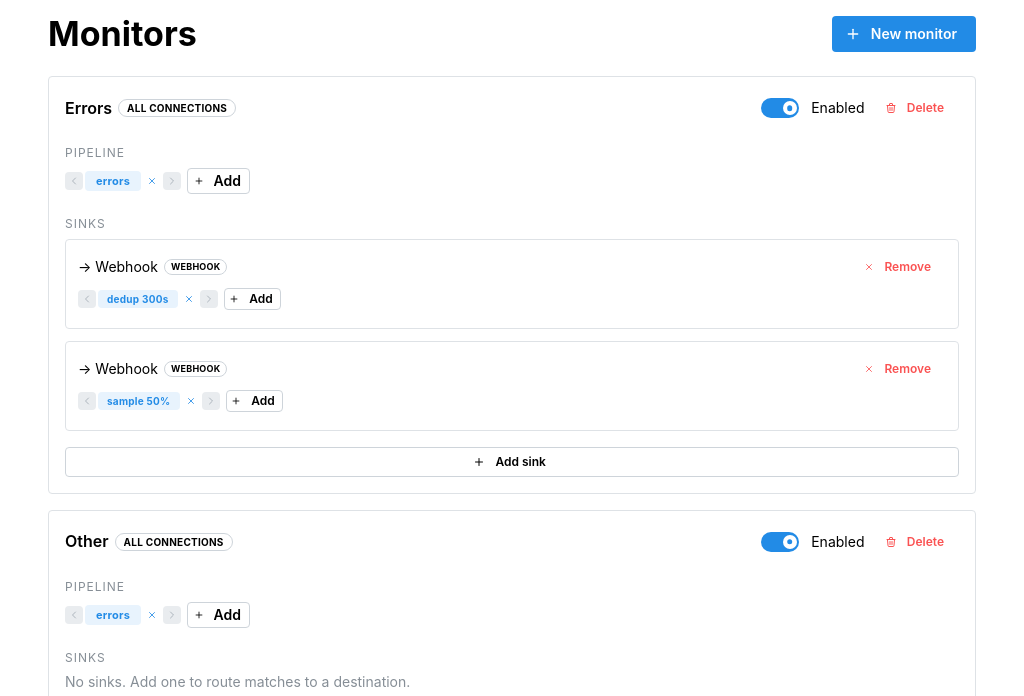
Test: saves monitor and per-sink pipelines independently without altering other monitors or sinks
What coordinates should you click on to do the following:
click the 1st button named "Remove errors"
I would click on:
 (152, 181)
Its box is [143,172,161,190].
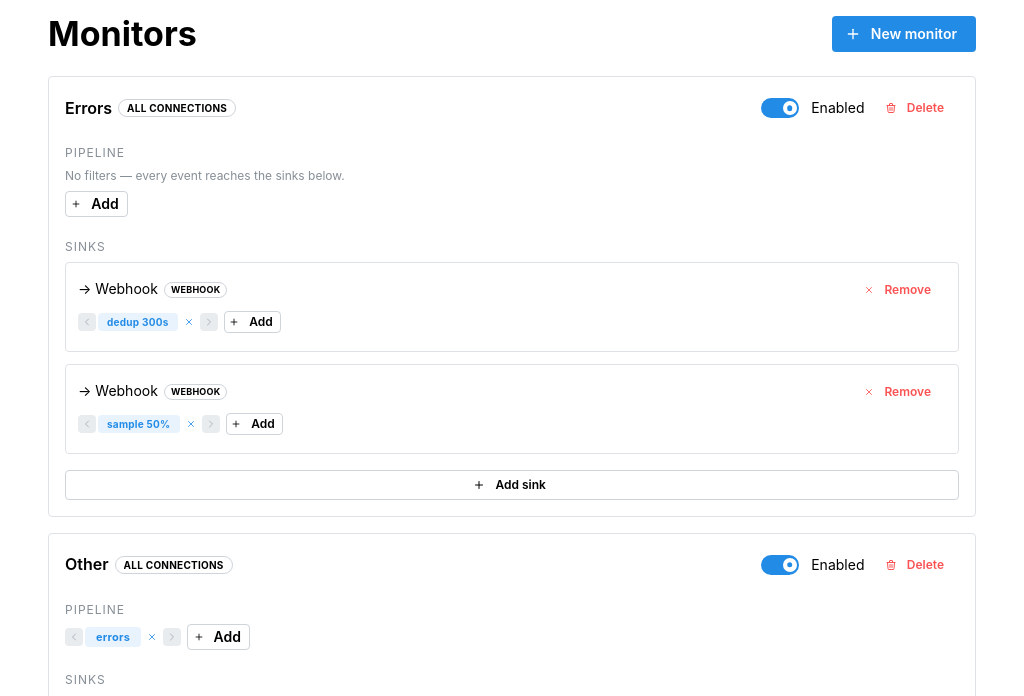
Expected: the text "No filters — every event reaches the sinks below." is shown, [65,168,345,183]
What coordinates should you click on to do the following:
click the button named "Remove dedup 300s"
I would click on:
 (188, 322)
Its box is [180,313,198,331].
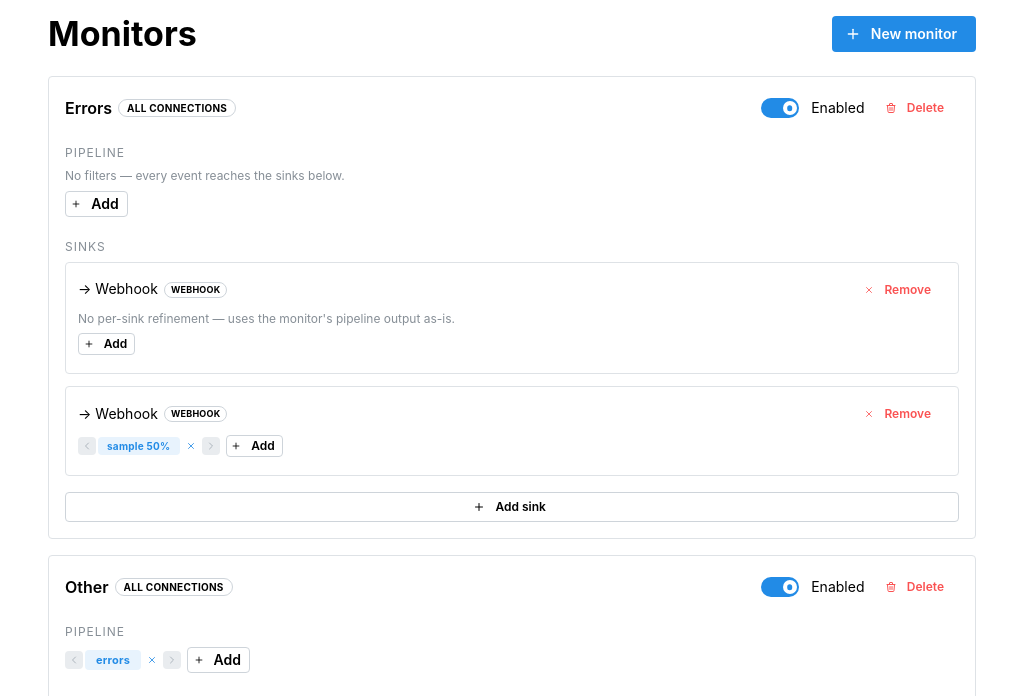
Expected: the button with aria-label "Edit sample 50%" is shown, [98,437,180,455]
Expected: the text "No per-sink refinement — uses the monitor's pipeline output as-is." is shown, [78,311,455,326]
